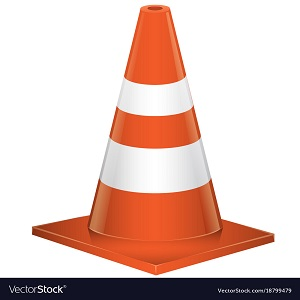traffic cone: (32, 4, 274, 275)
